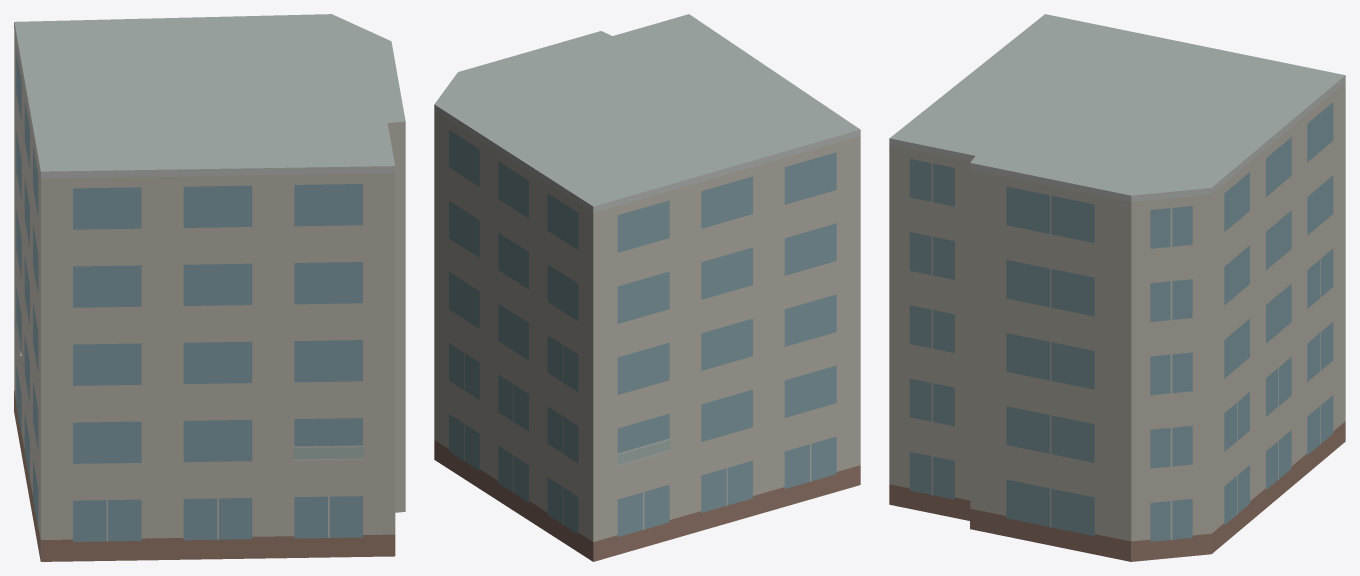
The model's file is survey-upis-32917123.glb.
3 renders of one model, left to right at view 1: azimuth 30°, elevation 25°; view 2: azimuth 150°, elevation 25°; view 3: azimuth 270°, elevation 25°, orthographic. The views are drawn at different scales.
Visible parts, largest first — view 1: survey-upis-32917123.tmp; view 2: survey-upis-32917123.tmp; view 3: survey-upis-32917123.tmp.
Part boxes in pixels (x1,y1,x2,y2): survey-upis-32917123.tmp: (14,14,405,561); survey-upis-32917123.tmp: (434,14,860,561); survey-upis-32917123.tmp: (889,14,1345,561).
Bounding box in the file's own units: 14.47 × 13.6 × 15.36.
